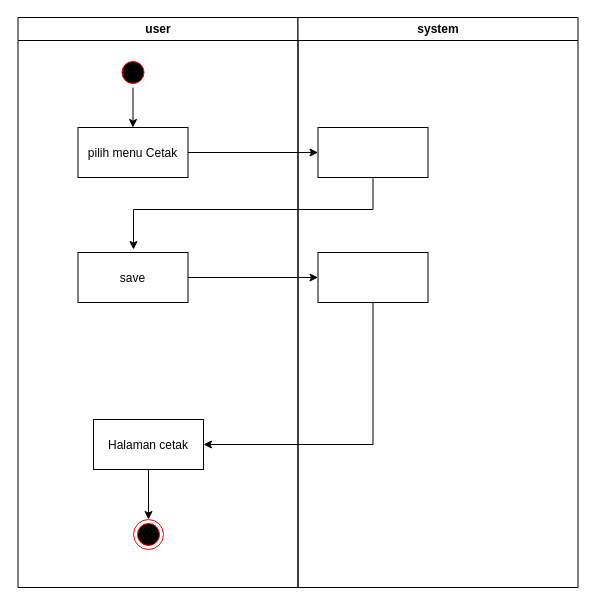
The diagram is 595 pixels wide and 605 high, and some of its shapes have lost their labels. The centre of each missing label's shape, as x and y in pixels:
"menyimpan" goes at point (372, 277).
"Tampil halaman cetak" goes at point (372, 152).
